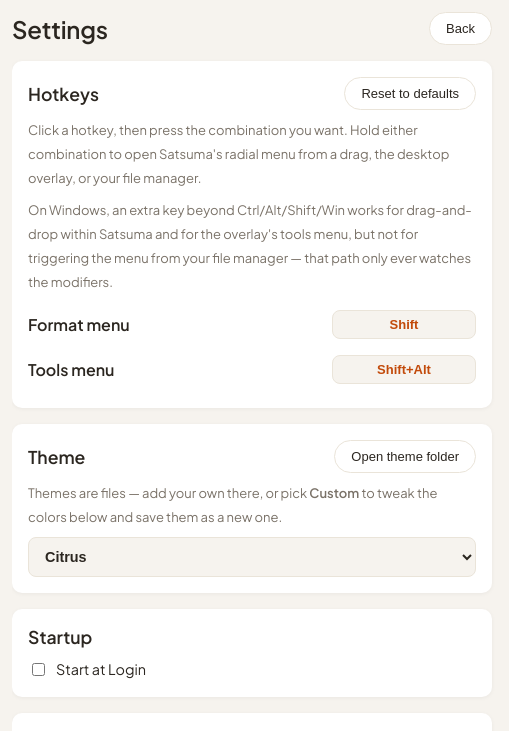
Test case: SettingsScreen › shows an error if opening the themes directory fails
The image size is (509, 731).
Click the button with test id "open-themes-dir": [405, 456] box [334, 440, 476, 473]
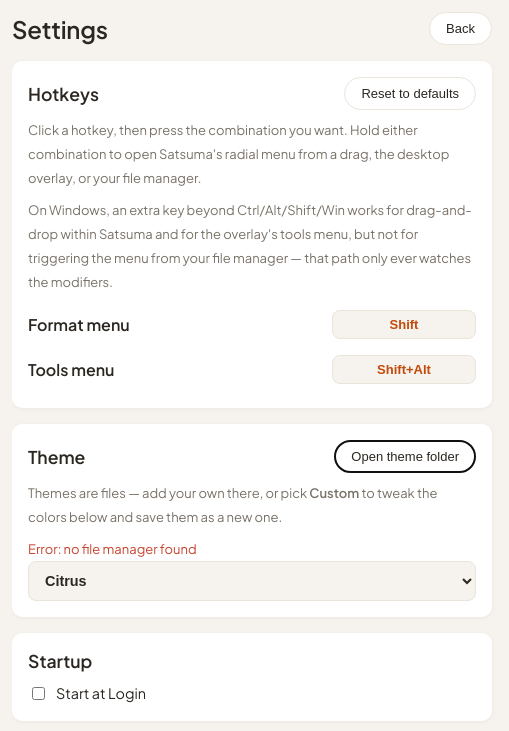
Check: the text with test id "open-themes-dir-error" shows "no file manager found", box [28, 541, 197, 557]
